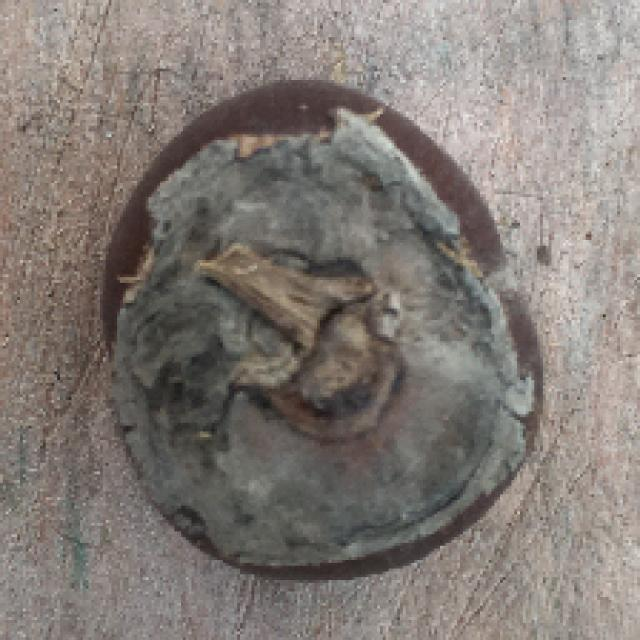DamagedHazelnut: (101, 81, 545, 581)
